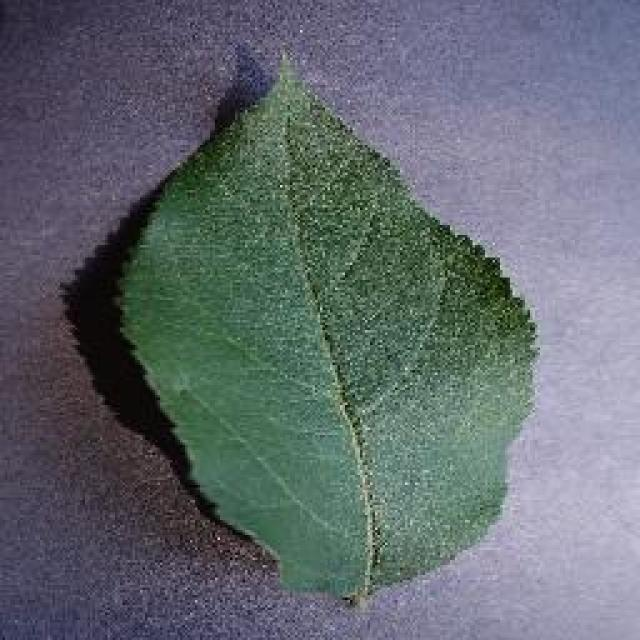apple healthy: (110, 40, 540, 608)
